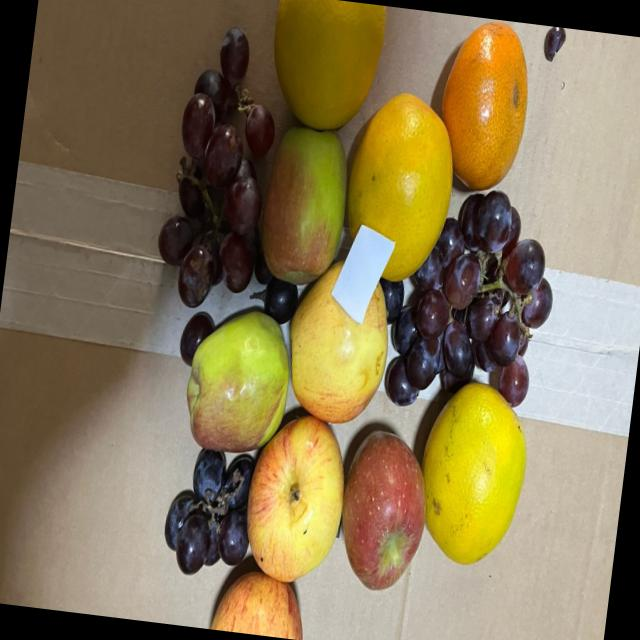hoja: (329, 228, 398, 330)
